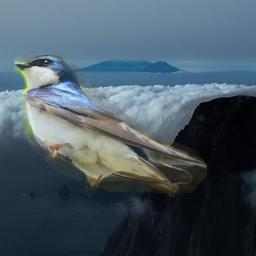Swallow: (14, 55, 207, 199)
